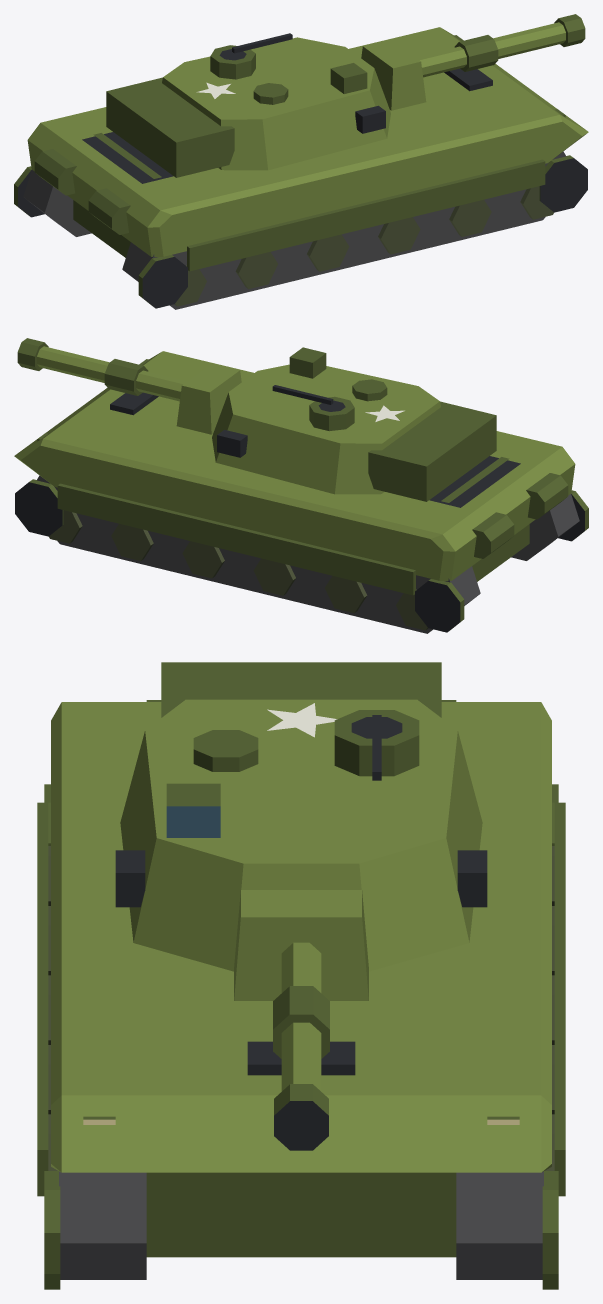
The model's file is tank.glb.
The picture shows the model from 3 angles, top to bottom: view 1: azimuth 30°, elevation 25°; view 2: azimuth 150°, elevation 25°; view 3: azimuth 270°, elevation 25°; orthographic projection. The views are drawn at different scales.
Parts seen in each view (by area): view 1: Body, Turret, Turret_Barrel; view 2: Body, Turret, Turret_Barrel; view 3: Body, Turret, Turret_Barrel.
Part boxes in pixels (left/top/right/bottom): Body: left=14, top=27, right=588, bottom=309; Turret: left=106, top=33, right=390, bottom=177; Turret_Barrel: left=361, top=14, right=585, bottom=110; Body: left=14, top=351, right=588, bottom=633; Turret: left=212, top=347, right=496, bottom=501; Turret_Barrel: left=17, top=338, right=241, bottom=434; Body: left=37, top=700, right=565, bottom=1289; Turret: left=115, top=662, right=487, bottom=971; Turret_Barrel: left=234, top=890, right=368, bottom=1150.
Size of the model in its own units: 0.8662 by 0.2785 by 0.392.
